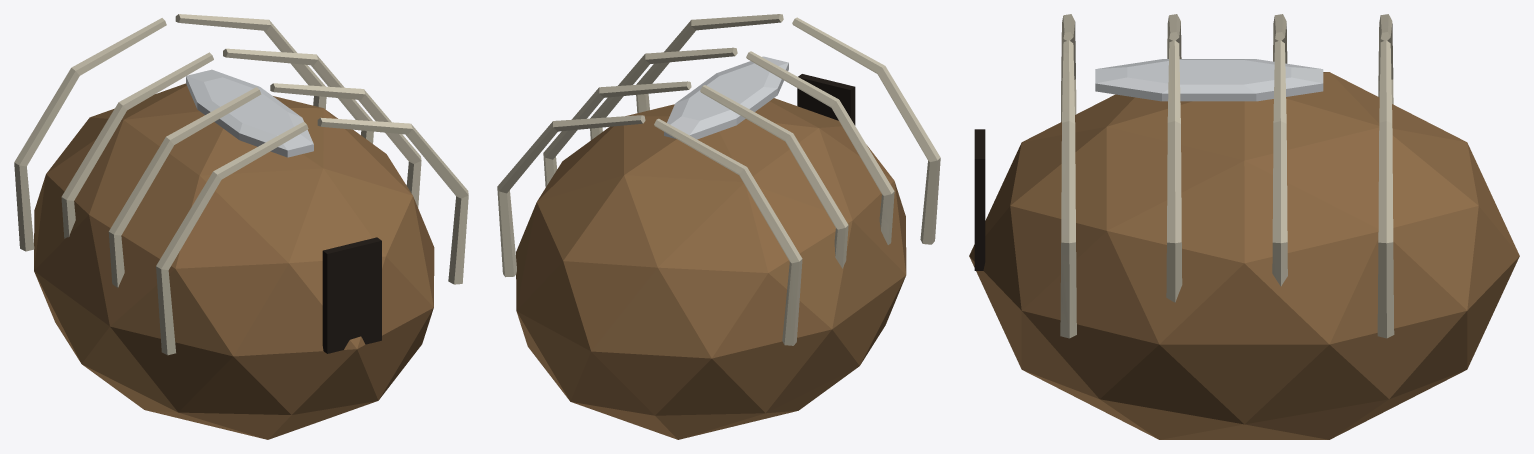
Rendered from owl_house_c_broken.glb.
3 renders of one model, left to right at view 1: azimuth 30°, elevation 25°; view 2: azimuth 150°, elevation 25°; view 3: azimuth 270°, elevation 25°, orthographic. The views are drawn at different scales.
Parts seen in each view (by area): view 1: owl_house_c_piece13, owl_house_c_piece1, owl_house_c_piece0, owl_house_c_piece11, owl_house_c_piece9, owl_house_c_piece3, owl_house_c_piece4, owl_house_c_piece2, owl_house_c_piece5, owl_house_c_piece12, owl_house_c_piece6, owl_house_c_piece10 (+1 smaller); view 2: owl_house_c_piece5, owl_house_c_piece2, owl_house_c_piece9, owl_house_c_piece6, owl_house_c_piece8, owl_house_c_piece11, owl_house_c_piece3, owl_house_c_piece13, owl_house_c_piece0, owl_house_c_piece12, owl_house_c_piece1, owl_house_c_piece4 (+1 smaller); view 3: owl_house_c_piece2, owl_house_c_piece4, owl_house_c_piece1, owl_house_c_piece11, owl_house_c_piece6, owl_house_c_piece5, owl_house_c_piece3, owl_house_c_piece7, owl_house_c_piece13.
Part boxes in pixels (x1,y1,x2,y2): owl_house_c_piece13: (108,191,369,386); owl_house_c_piece1: (293,118,464,395); owl_house_c_piece0: (61,184,382,431); owl_house_c_piece11: (141,83,349,276); owl_house_c_piece9: (16,192,172,416); owl_house_c_piece3: (67,63,315,196); owl_house_c_piece4: (256,85,468,273); owl_house_c_piece2: (143,14,373,143); owl_house_c_piece5: (14,75,123,205); owl_house_c_piece12: (70,127,175,220); owl_house_c_piece6: (79,28,181,118); owl_house_c_piece10: (144,391,383,439); owl_house_c_piece5: (546,176,838,394); owl_house_c_piece2: (497,81,722,369); owl_house_c_piece9: (677,228,893,439); owl_house_c_piece6: (534,129,736,372); owl_house_c_piece8: (611,263,803,439); owl_house_c_piece11: (701,14,898,164); owl_house_c_piece3: (701,80,836,212); owl_house_c_piece13: (848,89,940,253); owl_house_c_piece0: (821,180,906,342); owl_house_c_piece12: (777,141,869,221); owl_house_c_piece1: (668,15,855,123); owl_house_c_piece4: (559,40,705,166); owl_house_c_piece2: (1228,28,1481,429); owl_house_c_piece4: (1060,68,1326,437); owl_house_c_piece1: (974,52,1217,439); owl_house_c_piece11: (1017,14,1193,167); owl_house_c_piece6: (1319,15,1501,398); owl_house_c_piece5: (1286,26,1519,398); owl_house_c_piece3: (1181,14,1392,438); owl_house_c_piece7: (1159,355,1473,439); owl_house_c_piece13: (969,38,1181,267).
Bounding box in the file's own units: 2.38 × 2.44 × 3.12.
